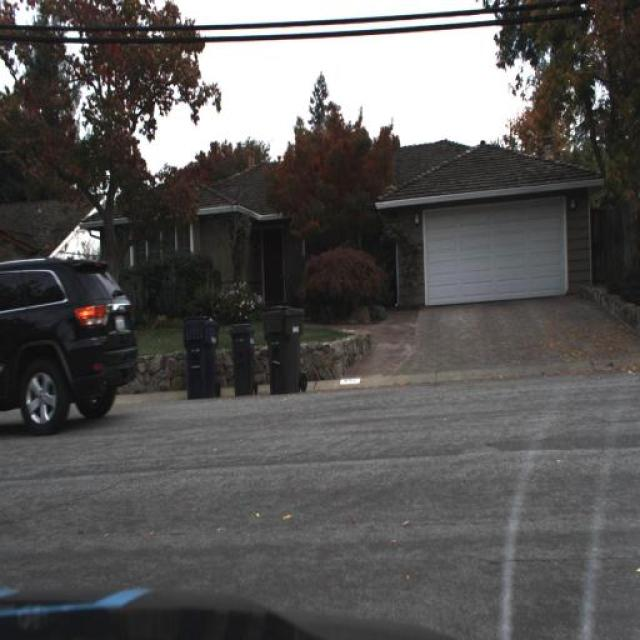car: (0, 258, 139, 437)
